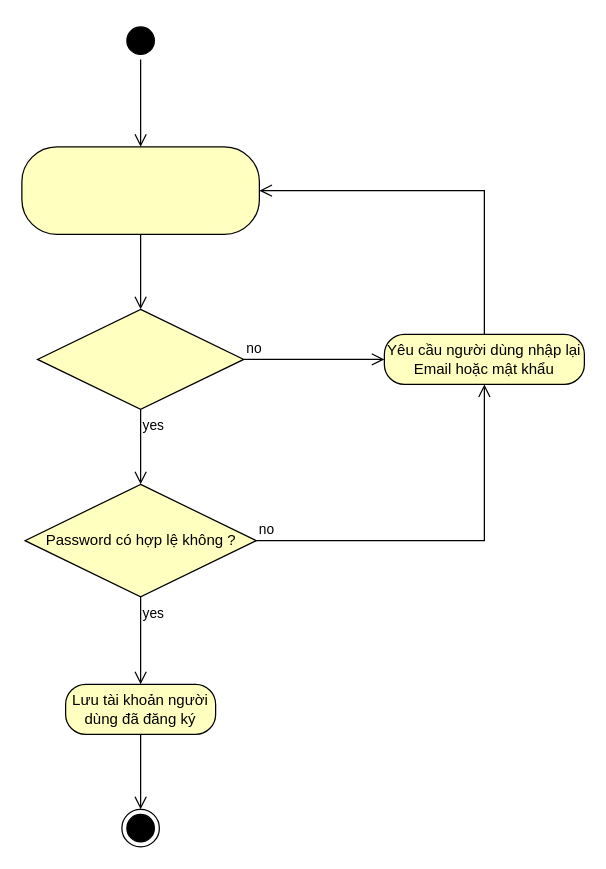
The diagram is 606 pixels wide and 869 high, and some of its shapes have lost their labels. The shapes that lost their labels are listed below. From the top down, each one's box as (x1, y1, x2, y2) in pixels, then its label:
(21, 146, 259, 234): Người dùng nhập email/password hoặc tài khoản Google để đăng ký
(36, 308, 244, 409): Email có hợp lệ không ?
